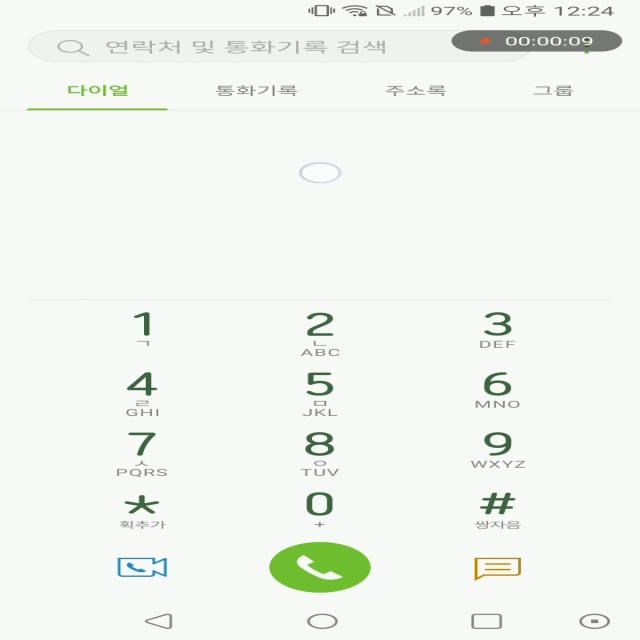Cursor: (298, 162, 343, 184)
